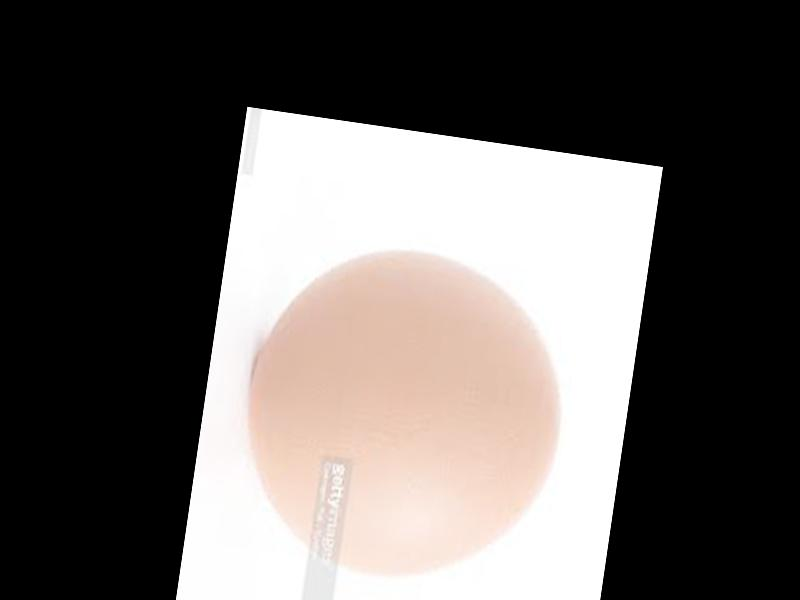Eggs: (232, 232, 582, 599)
